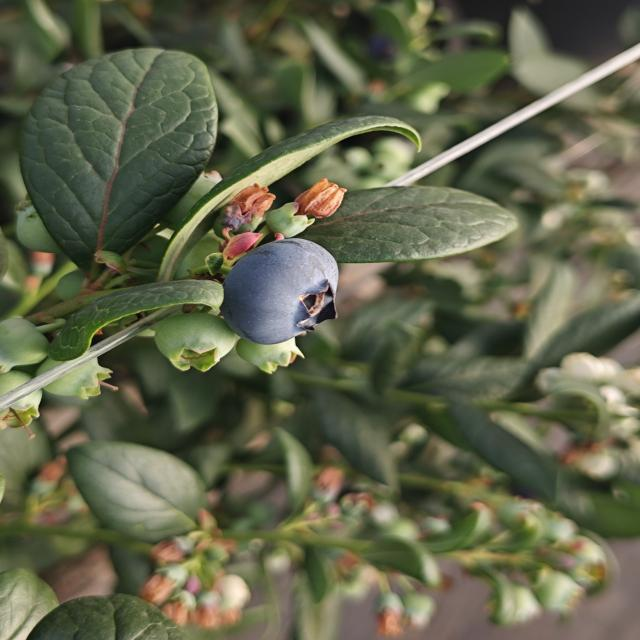ripe: (213, 234, 347, 349)
